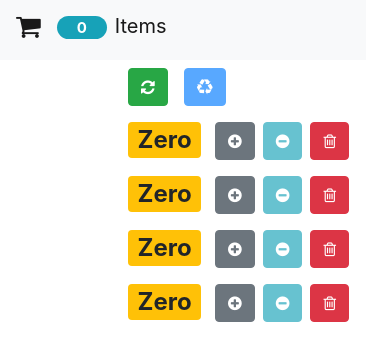
Test: CounterApp › Verify Functionality Of Delete Button
This screenshot has width=366, height=339.
Click the 1st icon with test id "plusButton" at (235, 141), box [228,133,242,149]
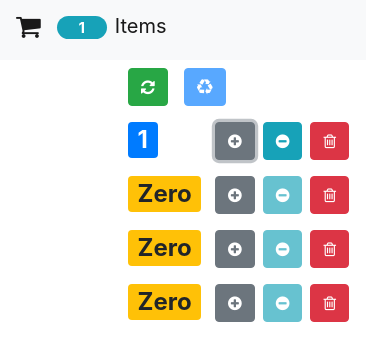
Click the 1st icon with test id "deleteButton" at (330, 141), box [323,133,336,149]
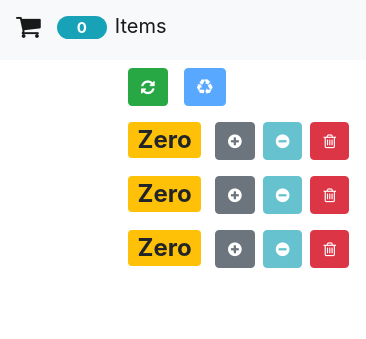
Now the text with test id "counter" reads "0", box [57,16,107,39]
